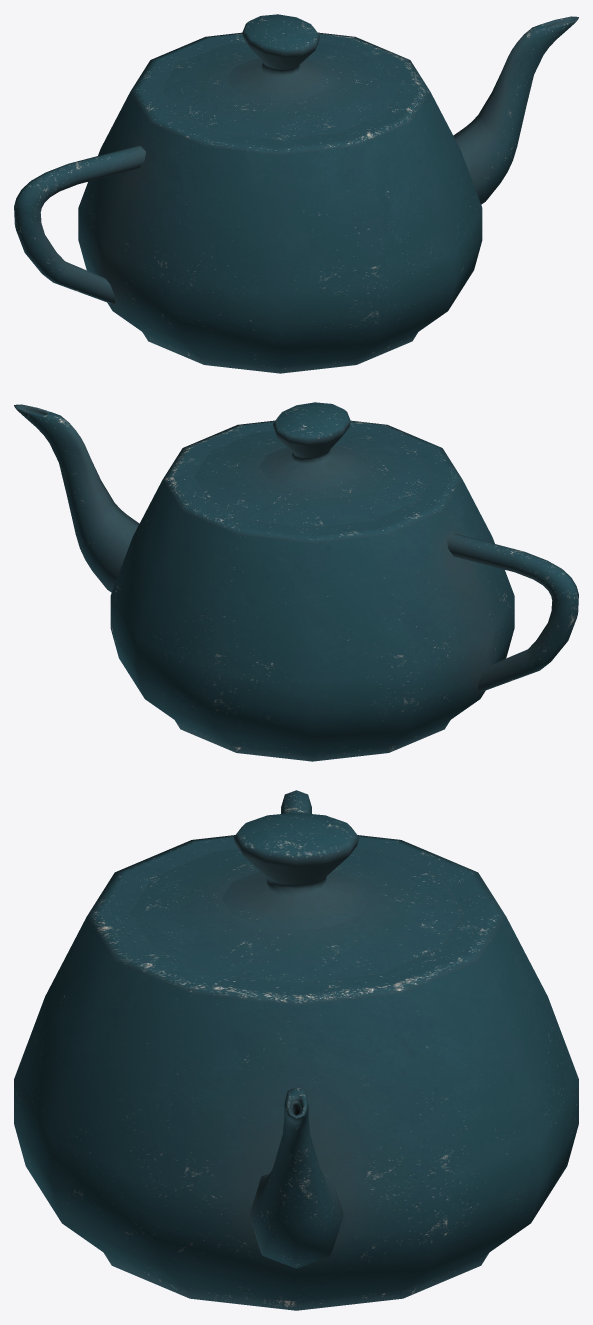
3 renders of one model, top to bottom at view 1: azimuth 30°, elevation 25°; view 2: azimuth 150°, elevation 25°; view 3: azimuth 270°, elevation 25°, orthographic. The views are drawn at different scales.
Visible parts, largest first — view 1: UtahTeapot_JM_geo; view 2: UtahTeapot_JM_geo; view 3: UtahTeapot_JM_geo.
Part boxes in pixels (box(x1,y1,x2,y2)): UtahTeapot_JM_geo: box(14, 14, 578, 373); UtahTeapot_JM_geo: box(14, 402, 578, 761); UtahTeapot_JM_geo: box(14, 790, 578, 1310).
Bounding box in the file's own units: 37.05 × 18.26 × 23.
1 material, 1 textured.
